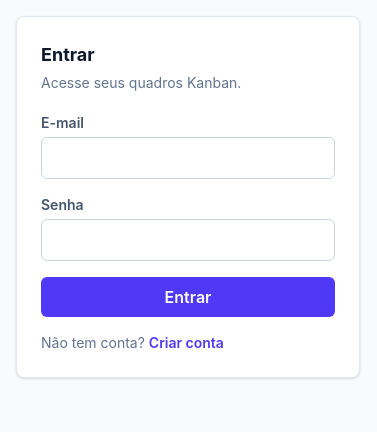
Scenario: LoginView › exibe mensagem de erro quando o login falha
This screenshot has width=377, height=432.
Type "ana@exemplo.com" into the field with id "email".
click(188, 158); type("ana@exemplo.com")  # box [41,137,335,179]
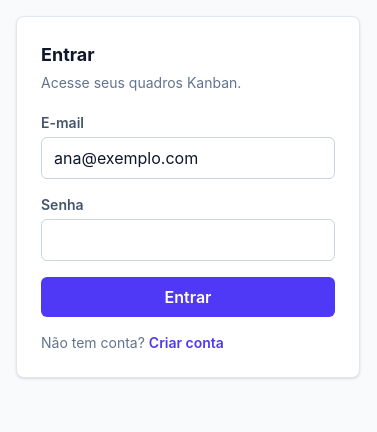
Type "senha-errada" into the password field with id "senha".
click(188, 240); type("senha-errada")  # box [41,219,335,261]
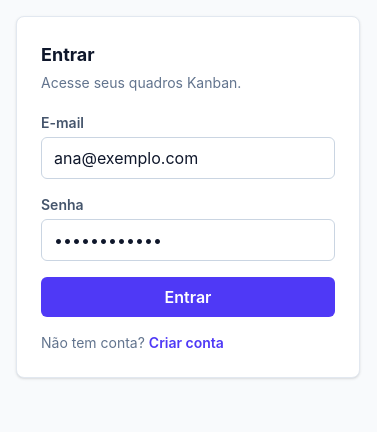
Submit the form, box [41,113,335,317]
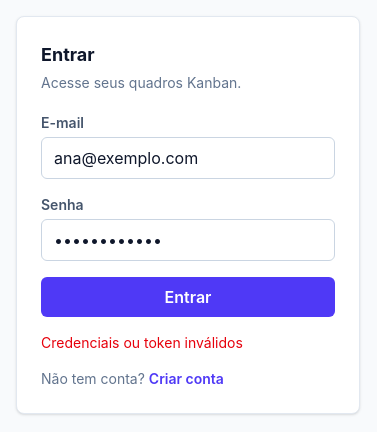
Now the text "Credenciais ou token inválidos" is shown, box [41,334,243,351]
